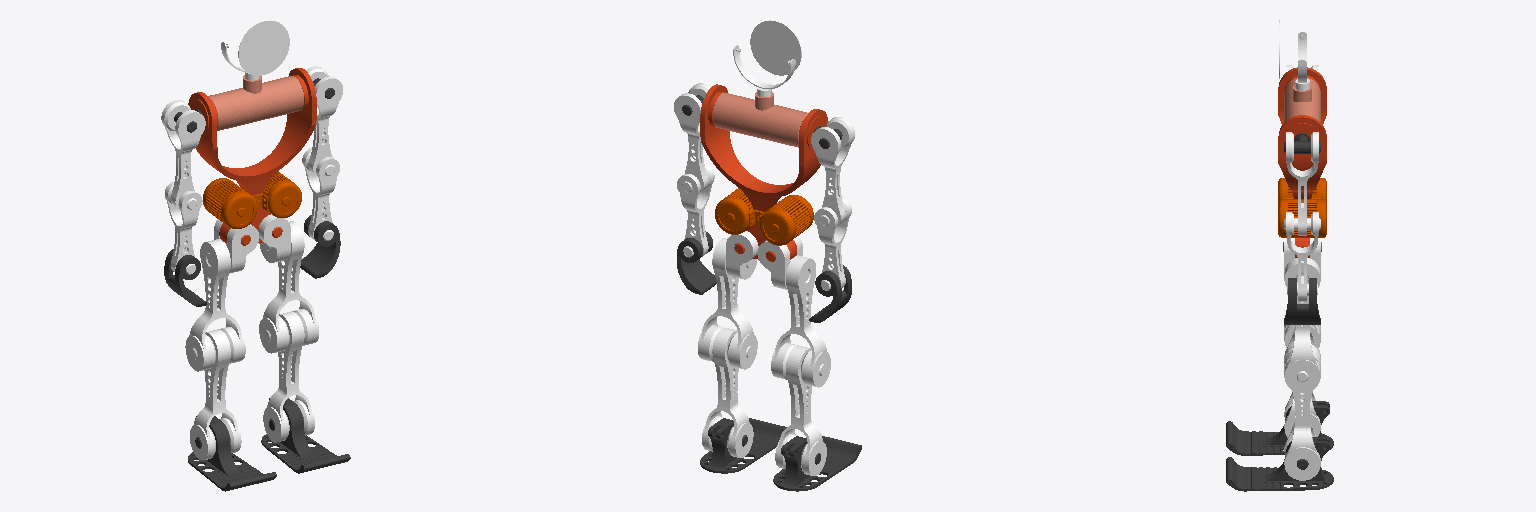
URDF robot description (robot):
<!-- Copyright 2016-2017 The MathWorks, Inc. -->

<robot name = "robot">

<material name = "red_A">
	<color rgba = "0.87 0.32 0.16 1" />
</material>

<material name = "red_B">
	<color rgba = "0.88 0.57 0.48 1" />
</material>

<material name = "gray_A">
	<color rgba = "0.3 0.3 0.3 1" />
</material>

<material name = "gray_B">
	<color rgba = "1 1 1 1" />
</material>

<link name = "trunk">
	<inertial>
		<origin xyz = "0 0 -0.109" rpy = "0 0 0" />
		<mass value = "0.369" />
		<inertia ixx = "1.334e-3" iyy = "1.935e-3" izz = "6.712e-4" iyz = "0" ixz = "0" ixy = "0" />
	</inertial>
	
	<visual>
		<geometry>
			<mesh filename = "trunk.stl" scale="0.001 0.001 0.001" />
		</geometry>
		<material name = "red_A" />
	</visual>
</link>

<link name = "right_hip">
	<inertial>
		<origin xyz = "-0.004 0 -0.012" rpy = "0 0 0" />
		<mass value = "0.085" />
		<inertia ixx = "3.380e-5" iyy = "2.674e-5" izz = "1.953e-5" iyz = "0" ixz = "-4.474e-6" ixy = "0" />
	</inertial>

	<visual>
		<geometry>
			<mesh filename = "hip.stl" scale="0.001 0.001 0.001" />
		</geometry>
		<material name = "gray_B" />
	</visual>
</link>

<link name = "left_hip">
	<inertial>
		<origin xyz = "-0.004 0 -0.012" rpy = "0 0 0" />
		<mass value = "0.085" />
		<inertia ixx = "3.380e-5" iyy = "2.674e-5" izz = "1.953e-5" iyz = "0" ixz = "-4.474e-6" ixy = "0" />
	</inertial>

	<visual>
		<geometry>
			<mesh filename = "hip.stl" scale="0.001 0.001 0.001" />
		</geometry>
		<material name = "gray_B" />
	</visual>
</link>

<link name = "right_upper_leg">
	<inertial>
		<origin xyz = "-0.025 0 -0.063" rpy = "0 0 0" />
		<mass value = "0.176" />
		<inertia ixx = "4.075e-4" iyy = "4.285e-4" izz = "4.997e-5" iyz = "0" ixz = "-7.163e-6" ixy = "0" />
	</inertial>

	<visual>
		<geometry>
			<mesh filename = "upper_leg.stl" scale="0.001 0.001 0.001" />
		</geometry>
		<material name = "gray_B" />
	</visual>
</link>

<link name = "left_upper_leg">
	<inertial>
		<origin xyz = "-0.025 0 -0.063" rpy = "0 0 0" />
		<mass value = "0.176" />
		<inertia ixx = "4.075e-4" iyy = "4.285e-4" izz = "4.997e-5" iyz = "0" ixz = "-7.163e-6" ixy = "0" />
	</inertial>

	<visual>
		<geometry>
			<mesh filename = "upper_leg.stl" scale="0.001 0.001 0.001" />
		</geometry>
		<material name = "gray_B" />
	</visual>
</link>

<link name = "right_lower_leg">
	<inertial>
		<origin xyz = "0.000 0 -0.052" rpy = "0 0 0" />
		<mass value = "0.161" />
		<inertia ixx = "3.775e-4" iyy = "3.872e-4" izz = "3.398e-5" iyz = "0" ixz = "0" ixy = "0" />
	</inertial>

	<visual>
		<geometry>
			<mesh filename = "lower_leg.stl" scale="0.001 0.001 0.001" />
		</geometry>
		<material name = "gray_B" />
	</visual>
</link>

<link name = "left_lower_leg">
	<inertial>
		<origin xyz = "0.000 0 -0.052" rpy = "0 0 0" />
		<mass value = "0.161" />
		<inertia ixx = "3.775e-4" iyy = "3.872e-4" izz = "3.398e-5" iyz = "0" ixz = "0" ixy = "0" />
	</inertial>

	<visual>
		<geometry>
			<mesh filename = "lower_leg.stl" scale="0.001 0.001 0.001" />
		</geometry>
		<material name = "gray_B" />
	</visual>
</link>

<link name = "right_foot">
	<inertial>
		<origin xyz = "0 -0.013 -0.011" rpy = "0 0 0" />
		<mass value = "0.126" />
		<inertia ixx = "1.256e-4" iyy = "3.787e-5" izz = "1.145e-4" iyz = "-2.238e-5" ixz = "0" ixy = "0" />
	</inertial>

	<visual>
		<geometry>
			<mesh filename = "foot.stl" scale="0.001 0.001 0.001" />
		</geometry>
		<material name = "gray_A" />
	</visual>
</link>

<link name = "left_foot">
	<inertial>
		<origin xyz = "0 -0.013 -0.011" rpy = "0 0 0" />
		<mass value = "0.126" />
		<inertia ixx = "1.256e-4" iyy = "3.787e-5" izz = "1.145e-4" iyz = "-2.238e-5" ixz = "0" ixy = "0" />
	</inertial>

	<visual>
		<geometry>
			<mesh filename = "foot.stl" scale="0.001 0.001 0.001" />
		</geometry>
		<material name = "gray_A" />
	</visual>
</link>

<link name = "shoulder_line">
	<inertial>
		<origin xyz = "0 0 0.003" rpy = "0 0 0" />
		<mass value = "0.049" />
		<inertia ixx = "1.753e-5" iyy = "4.884e-5" izz = "4.634e-5" iyz = "0" ixz = "0" ixy = "0" />
	</inertial>
	
	<visual>
		<geometry>
			<mesh filename = "shoulder_line.stl" scale="0.001 0.001 0.001" />
		</geometry>
		<material name = "red_B" />
	</visual>
</link>

<link name = "right_shoulder">
	<inertial>
		<origin xyz = "0.008 0 0" rpy = "0 0 0" />
		<mass value = "0.026" />
		<inertia ixx = "2.025e-6" iyy = "4.592e-6" izz = "6.030e-6" iyz = "0" ixz = "0" ixy = "0" />
	</inertial>
	
	<visual>
		<geometry>
			<mesh filename = "shoulder.stl" scale="0.001 0.001 0.001" />
		</geometry>
		<material name = "gray_A" />
	</visual>
</link>

<link name = "left_shoulder">
	<inertial>
		<origin xyz = "0.008 0 0" rpy = "0 0 0" />
		<mass value = "0.026" />
		<inertia ixx = "2.025e-6" iyy = "4.592e-6" izz = "6.030e-6" iyz = "0" ixz = "0" ixy = "0" />
	</inertial>
	
	<visual>
		<geometry>
			<mesh filename = "shoulder.stl" scale="0.001 0.001 0.001" />
		</geometry>
		<material name = "gray_A" />
	</visual>
</link>

<link name = "right_upper_arm">
	<inertial>
		<origin xyz = "0 0 -0.039" rpy = "0 0 0" />
		<mass value = "0.080" />
		<inertia ixx = "1.291e-4" iyy = "1.346e-4" izz = "1.316e-5" iyz = "0" ixz = "0" ixy = "0" />
	</inertial>
	
	<visual>
		<geometry>
			<mesh filename = "upper_arm.stl" scale="0.001 0.001 0.001" />
		</geometry>
		<material name = "gray_B" />
	</visual>
</link>


<link name = "left_upper_arm">
	<inertial>
		<origin xyz = "0 0 -0.039" rpy = "0 0 0" />
		<mass value = "0.080" />
		<inertia ixx = "1.291e-4" iyy = "1.346e-4" izz = "1.316e-5" iyz = "0" ixz = "0" ixy = "0" />
	</inertial>
	
	<visual>
		<geometry>
			<mesh filename = "upper_arm.stl" scale="0.001 0.001 0.001" />
		</geometry>
		<material name = "gray_B" />
	</visual>
</link>

<link name = "right_lower_arm">
	<inertial>
		<origin xyz = "0 0 -0.041" rpy = "0 0 0" />
		<mass value = "0.058" />
		<inertia ixx = "6.543e-5" iyy = "6.913e-5" izz = "7.689e-6" iyz = "0" ixz = "0" ixy = "0" />
	</inertial>
	
	<visual>
		<geometry>
			<mesh filename = "lower_arm.stl" scale="0.001 0.001 0.001" />
		</geometry>
		<material name = "gray_B" />
	</visual>
</link>

<link name = "left_lower_arm">
	<inertial>
		<origin xyz = "0 0 -0.041" rpy = "0 0 0" />
		<mass value = "0.058" />
		<inertia ixx = "6.543e-5" iyy = "6.913e-5" izz = "7.689e-6" iyz = "0" ixz = "0" ixy = "0" />
	</inertial>
	
	<visual>
		<geometry>
			<mesh filename = "lower_arm.stl" scale="0.001 0.001 0.001" />
		</geometry>
		<material name = "gray_B" />
	</visual>
</link>

<link name = "right_hand">
	<inertial>
		<origin xyz = "0 0 -0.02" rpy = "0 0 0" />
		<mass value = "0.052" />
		<inertia ixx = "1.981e-5" iyy = "2.229e-5" izz = "9.561e-6" iyz = "-2.684e-6" ixz = "0" ixy = "0" />
	</inertial>
	
	<visual>
		<geometry>
			<mesh filename = "hand.stl" scale="0.001 0.001 0.001" />
		</geometry>
		<material name = "gray_A" />
	</visual>
</link>

<link name = "left_hand">
	<inertial>
		<origin xyz = "0 0 -0.02" rpy = "0 0 0" />
		<mass value = "0.052" />
		<inertia ixx = "1.981e-5" iyy = "2.229e-5" izz = "9.561e-6" iyz = "-2.684e-6" ixz = "0" ixy = "0" />
	</inertial>
	
	<visual>
		<geometry>
			<mesh filename = "hand.stl" scale="0.001 0.001 0.001" />
		</geometry>
		<material name = "gray_A" />
	</visual>
</link>

<link name = "head">
	<inertial>
		<origin xyz = "0 0.002 0" rpy = "0 0 0" />
		<mass value = "0.01" />
		<inertia ixx = "6.874e-6" iyy = "8.226e-6" izz = "6.992e-6" iyz = "0" ixz = "0" ixy = "0" />
	</inertial>
	
	<visual>
		<geometry>
			<mesh filename = "head.stl" scale="0.001 0.001 0.001" />
		</geometry>
		<material name = "gray_A" />
	</visual>
</link>

<link name = "cover">
	<inertial>
		<origin xyz = "0 -0.024 0" rpy = "0 0 0" />
		<mass value = "0.004" />
		<inertia ixx = "1.030e-6" iyy = "2.060e-6" izz = "1.030e-6" iyz = "0" ixz = "0" ixy = "0" />
	</inertial>
	
	<visual>
		<geometry>
			<mesh filename = "cover.stl" scale="0.001 0.001 0.001" />
		</geometry>
		<material name = "gray_B" />
	</visual>
</link>

<link name = "neck">
	<inertial>
		<origin xyz = "0 0 0.019" rpy = "0 0 0" />
		<mass value = "0.021" />
		<inertia ixx = "6.005e-6" iyy = "8.752e-6" izz = "3.339e-6" iyz = "0" ixz = "0" ixy = "0" />
	</inertial>
	
	<visual>
		<geometry>
			<mesh filename = "neck.stl" scale="0.001 0.001 0.001" />
		</geometry>
		<material name = "gray_B" />
	</visual>
</link>

<link name = "waistline">
	<inertial>
		<origin xyz = "0 0 0" rpy = "0 0 0" />
		<mass value = "0.311" />
		<inertia ixx = "1.008e-4" iyy = "2.751e-4" izz = "3.104e-4" iyz = "0" ixz = "0" ixy = "0" />
	</inertial>
	
	<visual>
		<geometry>
			<mesh filename = "waistline.stl" scale="0.001 0.001 0.001" />
		</geometry>
		<material name = "color_A" />
	</visual>
</link>

<joint name = "right_hip_sagittal" type = "continuous">
	<origin xyz = "-0.01905 0 -0.1849" rpy = "0 0 0" />
	<axis xyz = "0 1 0" />
	<dynamics damping = "0.001" />
	<parent link = "trunk" />
	<child link = "right_hip" />
</joint>

<joint name = "left_hip_sagittal" type = "continuous">
	<origin xyz = "0.01905 0 -0.1849" rpy = "0 0 3.1415" />
	<axis xyz = "0 1 0" />
	<dynamics damping = "0.001" />
	<parent link = "trunk" />
	<child link = "left_hip" />
</joint>

<joint name = "right_hip_frontal" type = "continuous">
	<origin xyz = "0 0 -0.02286" rpy = "0 0 0" />
	<axis xyz = "1 0 0" />
	<dynamics damping = "0.001" />
	<parent link = "right_hip" />
	<child link = "right_upper_leg" />
</joint>

<joint name = "left_hip_frontal" type = "continuous">
	<origin xyz = "0 0 -0.02286" rpy = "0 0 0" />
	<axis xyz = "1 0 0" />
	<dynamics damping = "0.001" />
	<parent link = "left_hip" />
	<child link = "left_upper_leg" />
</joint>

<joint name = "right_knee" type = "continuous">
	<origin xyz = "-0.02537 0 -0.1041" rpy = "0 0 0" />
	<axis xyz = "1 0 0" />
	<dynamics damping = "0.001" />
	<parent link = "right_upper_leg" />
	<child link = "right_lower_leg" />
</joint>

<joint name = "left_knee" type = "continuous">
	<origin xyz = "-0.02537 0 -0.1041" rpy = "0 0 0" />
	<axis xyz = "1 0 0" />
	<dynamics damping = "0.001" />
	<parent link = "left_upper_leg" />
	<child link = "left_lower_leg" />
</joint>

<joint name = "right_ankle" type = "continuous">
	<origin xyz = "0 0 -0.10414" rpy = "0 0 0" />
	<axis xyz = "1 0 0" />
	<dynamics damping = "0.001" />
	<parent link = "right_lower_leg" />
	<child link = "right_foot" />
</joint>

<joint name = "left_ankle" type = "continuous">
	<origin xyz = "0 0 -0.10414" rpy = "0 0 3.1415" />
	<axis xyz = "1 0 0" />
	<dynamics damping = "0.001" />
	<parent link = "left_lower_leg" />
	<child link = "left_foot" />
</joint>

<joint name = "right_shoulder_frontal" type = "continuous">
	<origin xyz = "-0.06413 0 -0.0399" rpy = "0 0 3.1415" />
	<axis xyz = "1 0 0" />
	<dynamics damping = "0.001" />
	<parent link = "trunk" />
	<child link = "right_shoulder" />
</joint>

<joint name = "left_shoulder_frontal" type = "continuous">
	<origin xyz = "0.06413 0 -0.0399" rpy = "0 0 0" />
	<axis xyz = "1 0 0" />
	<dynamics damping = "0.001" />
	<parent link = "trunk" />
	<child link = "left_shoulder" />
</joint>

<joint name = "right_shoulder_sagittal" type = "continuous">
	<origin xyz = "0.01905 0 0" rpy = "0 0 -1.57075" />
	<axis xyz = "1 0 0" />
	<dynamics damping = "0.001" />
	<parent link = "right_shoulder" />
	<child link = "right_upper_arm" />
</joint>

<joint name = "left_shoulder_sagittal" type = "continuous">
	<origin xyz = "0.01905 0 0" rpy = "0 0 -1.57075" />
	<axis xyz = "1 0 0" />
	<dynamics damping = "0.001" />
	<parent link = "left_shoulder" />
	<child link = "left_upper_arm" />
</joint>

<joint name = "right_elbow" type = "continuous">
	<origin xyz = "0 0 -0.0889" rpy = "0 0 0" />
	<axis xyz = "1 0 0" />
	<dynamics damping = "0.001" />
	<parent link = "right_upper_arm" />
	<child link = "right_lower_arm" />
</joint>

<joint name = "left_elbow" type = "continuous">
	<origin xyz = "0 0 -0.0889" rpy = "0 0 0" />
	<axis xyz = "1 0 0" />
	<dynamics damping = "0.001" />
	<parent link = "left_upper_arm" />
	<child link = "left_lower_arm" />
</joint>

<joint name = "right_wrist" type = "continuous">
	<origin xyz = "0 0 -0.0762" rpy = "0 0 0" />
	<axis xyz = "1 0 0" />
	<dynamics damping = "0.001" />
	<parent link = "right_lower_arm" />
	<child link = "right_hand" />
</joint>

<joint name = "left_wrist" type = "continuous">
	<origin xyz = "0 0 -0.0762" rpy = "0 0 0" />
	<axis xyz = "1 0 0" />
	<dynamics damping = "0.001" />
	<parent link = "left_lower_arm" />
	<child link = "left_hand" />
</joint>

<joint name = "trunk_shoulder" type = "continuous">
	<origin xyz = "0 0 -0.0399" rpy = "0 0 0" />
	<axis xyz = "1 0 0" />
	<dynamics damping = "0.05" />
	<parent link = "trunk" />
	<child link = "shoulder_line" />
</joint>

<joint name = "shoulder_neck" type = "continuous">
	<origin xyz = "0 0 0.01016" rpy = "0 0 0" />
	<axis xyz = "0 0 1" />
	<dynamics damping = "0.001" />
	<parent link = "shoulder_line" />
	<child link = "neck" />
</joint>

<joint name = "neck_head" type = "fixed">
	<origin xyz = "0 0 0.06414" rpy = "0 0 0" />
	<parent link = "neck" />
	<child link = "head" />
</joint>

<joint name = "head_cover_fixed" type = "fixed">
	<origin xyz = "0 0 0" rpy = "0 0 0" />
	<parent link = "head" />
	<child link = "cover" />
</joint>

<joint name = "trunk_waistline_fixed" type = "fixed">
	<origin xyz = "0 0 -0.1487" rpy = "0 0 0" />
	<parent link = "trunk" />
	<child link = "waistline" />
</joint>

</robot>

--- Render facts (derived) ---
The picture shows the robot from 3 angles, left to right: view 1: azimuth 30°, elevation 25°; view 2: azimuth 150°, elevation 25°; view 3: azimuth 270°, elevation 25°; orthographic projection.
Robot: robot — 22 links, 21 joints (18 continuous, 3 fixed); root link trunk; default pose: all joints at 0.
Visible links, largest first — view 1: trunk, right_upper_leg, waistline, shoulder_line, left_upper_leg, right_lower_leg, left_lower_leg, left_foot, right_foot, right_upper_arm, cover, left_upper_arm (+6 smaller); view 2: trunk, right_upper_leg, waistline, shoulder_line, left_upper_leg, right_lower_leg, left_lower_leg, right_foot, left_foot, right_upper_arm, cover, left_upper_arm (+7 smaller); view 3: trunk, left_foot, left_upper_leg, left_lower_leg, right_foot, waistline, left_upper_arm, shoulder_line, left_hand, left_lower_arm, right_lower_leg, neck.
Boxes of the visible links, box(x1,y1,x2,y2) form: trunk: box(188, 68, 316, 245); right_upper_leg: box(185, 239, 245, 371); waistline: box(203, 171, 301, 228); shoulder_line: box(208, 75, 303, 130); left_upper_leg: box(259, 221, 318, 353); right_lower_leg: box(190, 329, 241, 460); left_lower_leg: box(263, 311, 314, 442); left_foot: box(261, 398, 350, 473); right_foot: box(188, 416, 276, 491); right_upper_arm: box(161, 100, 205, 209); cover: box(238, 20, 289, 75); left_upper_arm: box(306, 66, 342, 175); trunk: box(700, 84, 827, 261); right_upper_leg: box(771, 255, 830, 387); waistline: box(715, 188, 813, 245); shoulder_line: box(713, 92, 807, 147); left_upper_leg: box(698, 238, 757, 369); right_lower_leg: box(775, 345, 826, 475); left_lower_leg: box(702, 328, 753, 457); right_foot: box(773, 436, 861, 491); left_foot: box(700, 418, 786, 473); right_upper_arm: box(811, 117, 854, 226); cover: box(750, 20, 801, 75); left_upper_arm: box(674, 83, 710, 192); trunk: box(1278, 67, 1326, 257); left_foot: box(1226, 437, 1333, 491); left_upper_leg: box(1284, 258, 1320, 392); left_lower_leg: box(1284, 350, 1320, 480); right_foot: box(1226, 401, 1333, 455); waistline: box(1278, 178, 1326, 237); left_upper_arm: box(1284, 132, 1320, 235); shoulder_line: box(1284, 77, 1320, 121); left_hand: box(1284, 278, 1320, 324); left_lower_arm: box(1286, 212, 1318, 301); right_lower_leg: box(1284, 325, 1320, 437); neck: box(1295, 32, 1309, 90).
Bounding box of the posed robot: 0.1994 × 0.113 × 0.5103 m (x, y, z).
21 mesh visuals loaded from 14 distinct referenced files (13 binary STL); not drawn: 1 (reference not matched to a file when rendering).